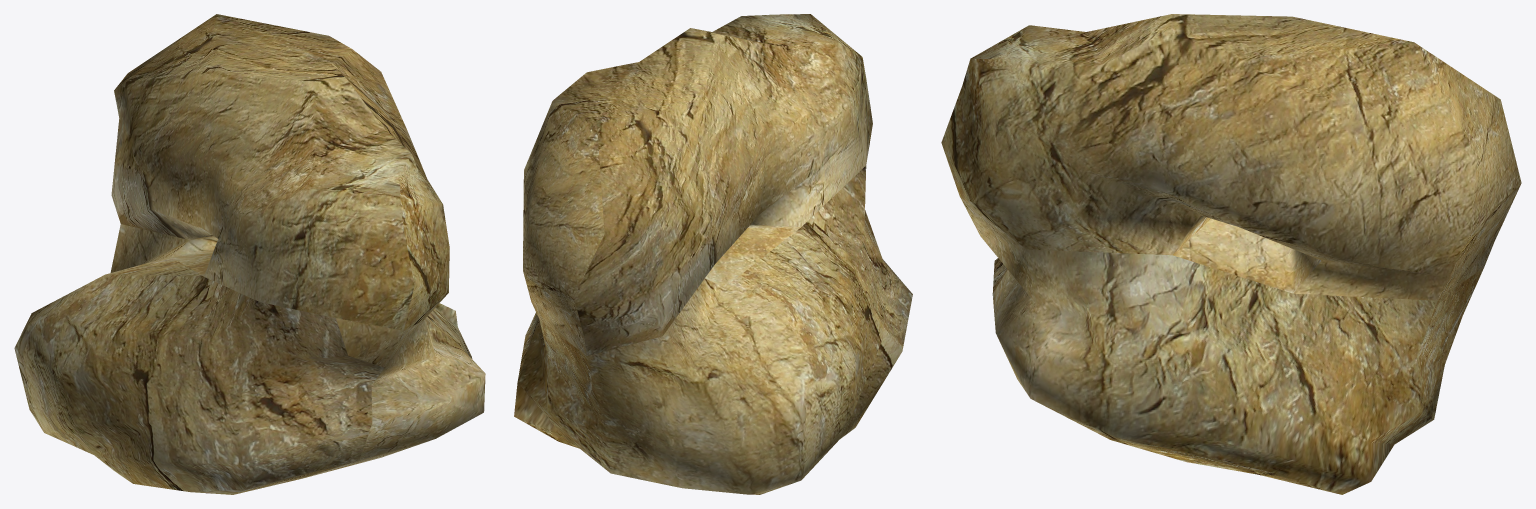
File: Rock 5.FBX
3 renders of one model, left to right at view 1: azimuth 30°, elevation 25°; view 2: azimuth 150°, elevation 25°; view 3: azimuth 270°, elevation 25°, orthographic. The views are drawn at different scales.
Visible parts, largest first — view 1: RockMesh; view 2: RockMesh; view 3: RockMesh.
Part boxes in pixels (bbox=[...]): RockMesh: bbox=[14, 14, 485, 494]; RockMesh: bbox=[514, 14, 912, 494]; RockMesh: bbox=[941, 14, 1521, 494].
Size of the model in its own units: 131 by 141 by 171.
Materials: 1 (1 with a texture image).
